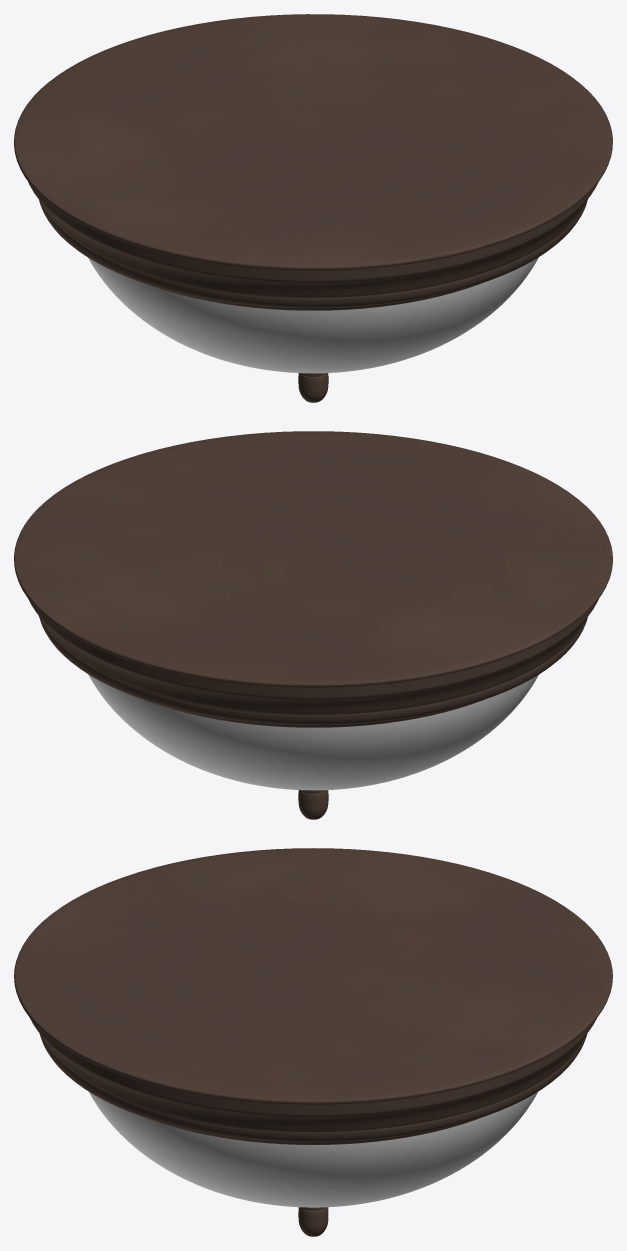
Rendered from abo-B0828DZ1QL.glb.
3 views of the same model, one above another, from view 1: azimuth 30°, elevation 25°; view 2: azimuth 150°, elevation 25°; view 3: azimuth 270°, elevation 25° (orthographic).
Size of the model in its own units: 0.28 by 0.135 by 0.28.
Materials: 1 (1 with a texture image).
